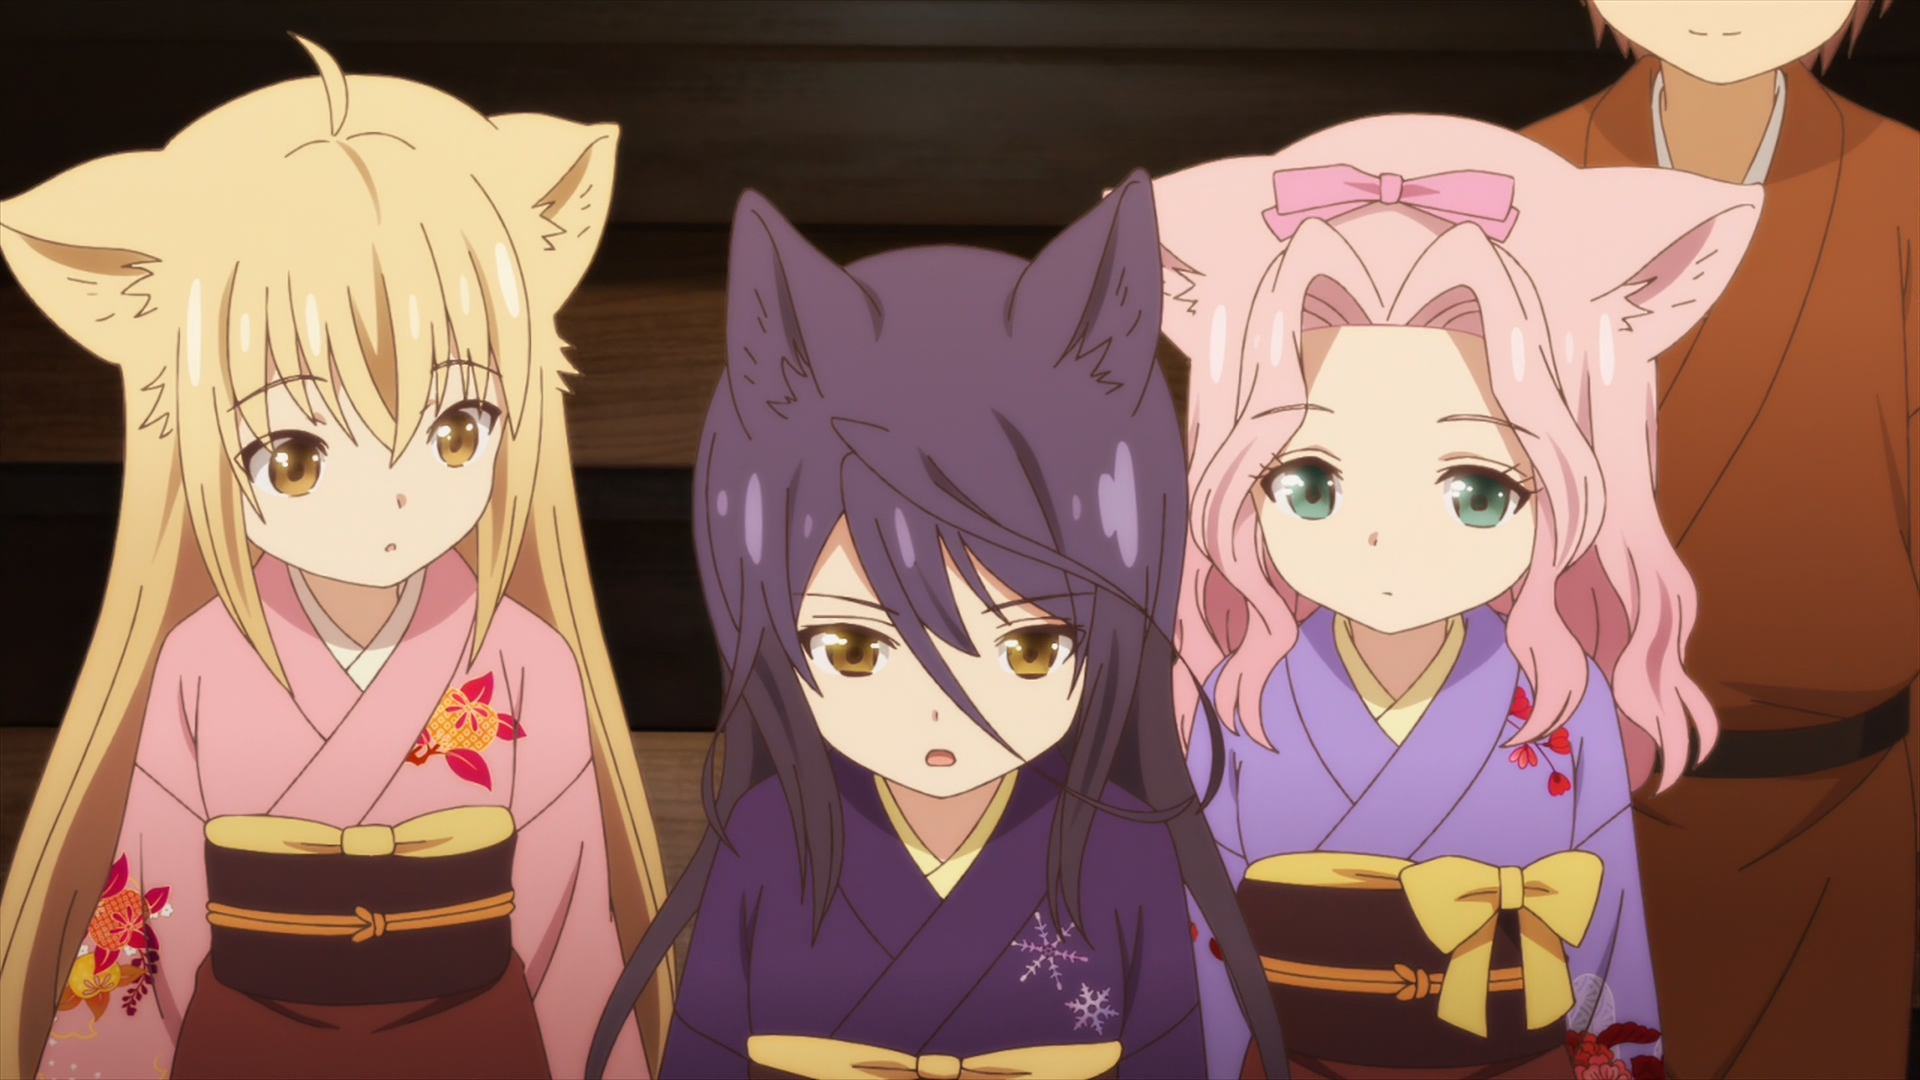枣: (1513, 1, 1920, 1080)
柚: (1, 32, 674, 1080)
皋: (585, 165, 1290, 1080)
莲: (1100, 112, 1764, 1080)
